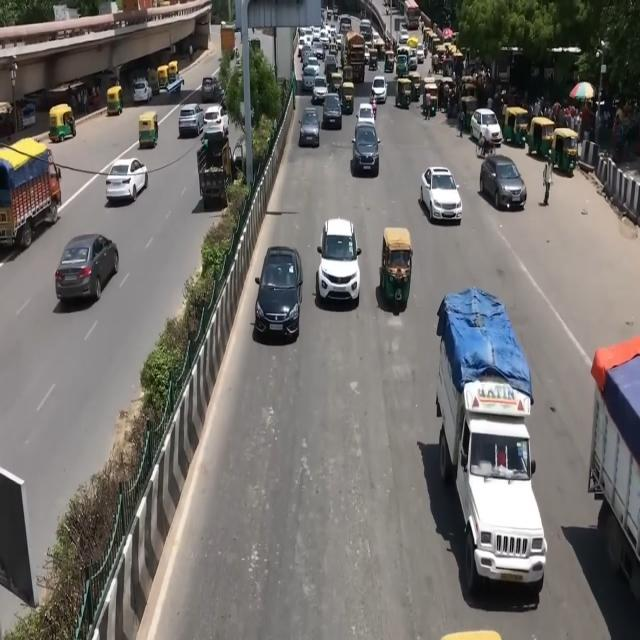auto: (378, 227, 412, 310), (549, 128, 580, 175), (527, 116, 555, 160), (501, 105, 529, 148), (48, 103, 76, 143), (138, 111, 159, 149), (459, 94, 478, 128), (438, 76, 456, 110), (394, 77, 412, 110), (106, 85, 123, 117), (422, 80, 439, 112), (340, 81, 354, 116), (461, 78, 478, 101), (430, 37, 443, 64), (409, 73, 421, 101), (423, 28, 436, 52)
bike-auto: (481, 122, 492, 156), (424, 89, 432, 119), (370, 91, 377, 120)
